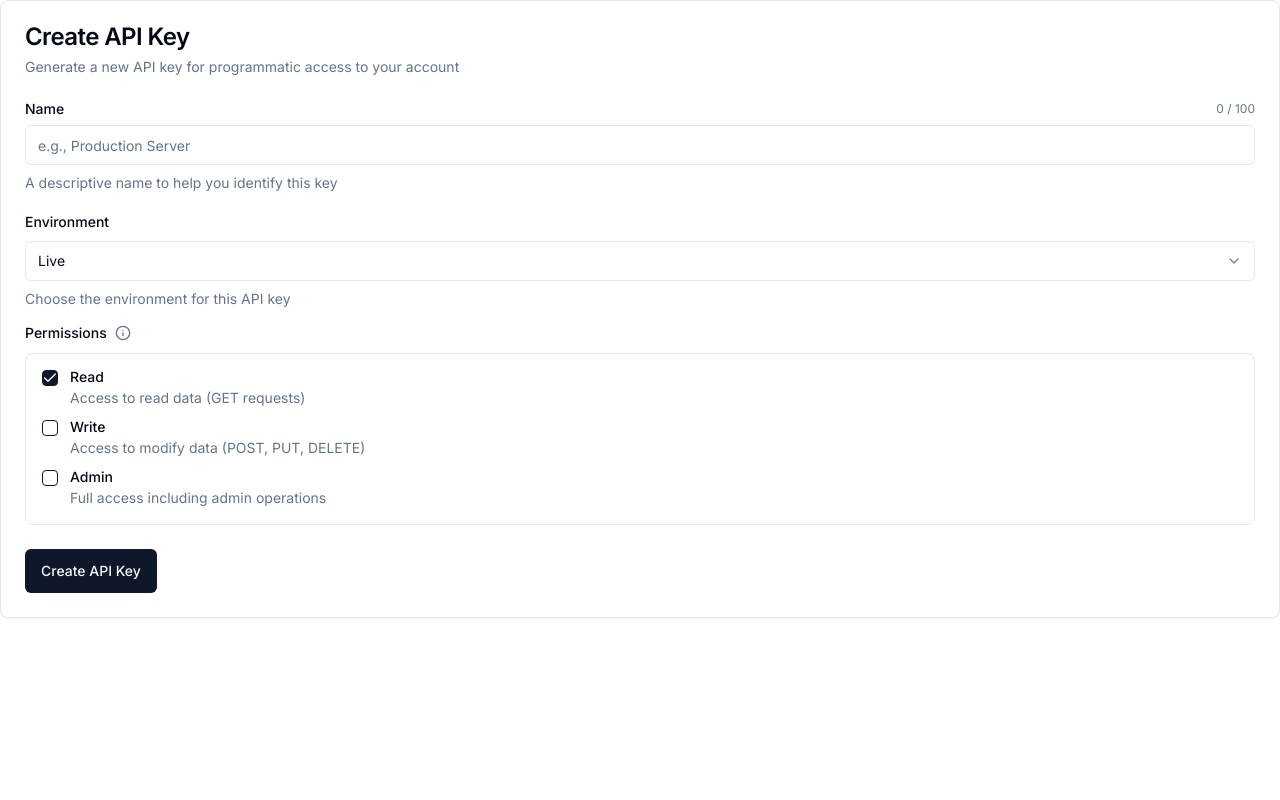
Test: ApiKeyCreateForm › shows loading state during submission
Type "Test" into the field labelled "Name" at (640, 145), box top-left (25, 125), bottom-right (1255, 165)
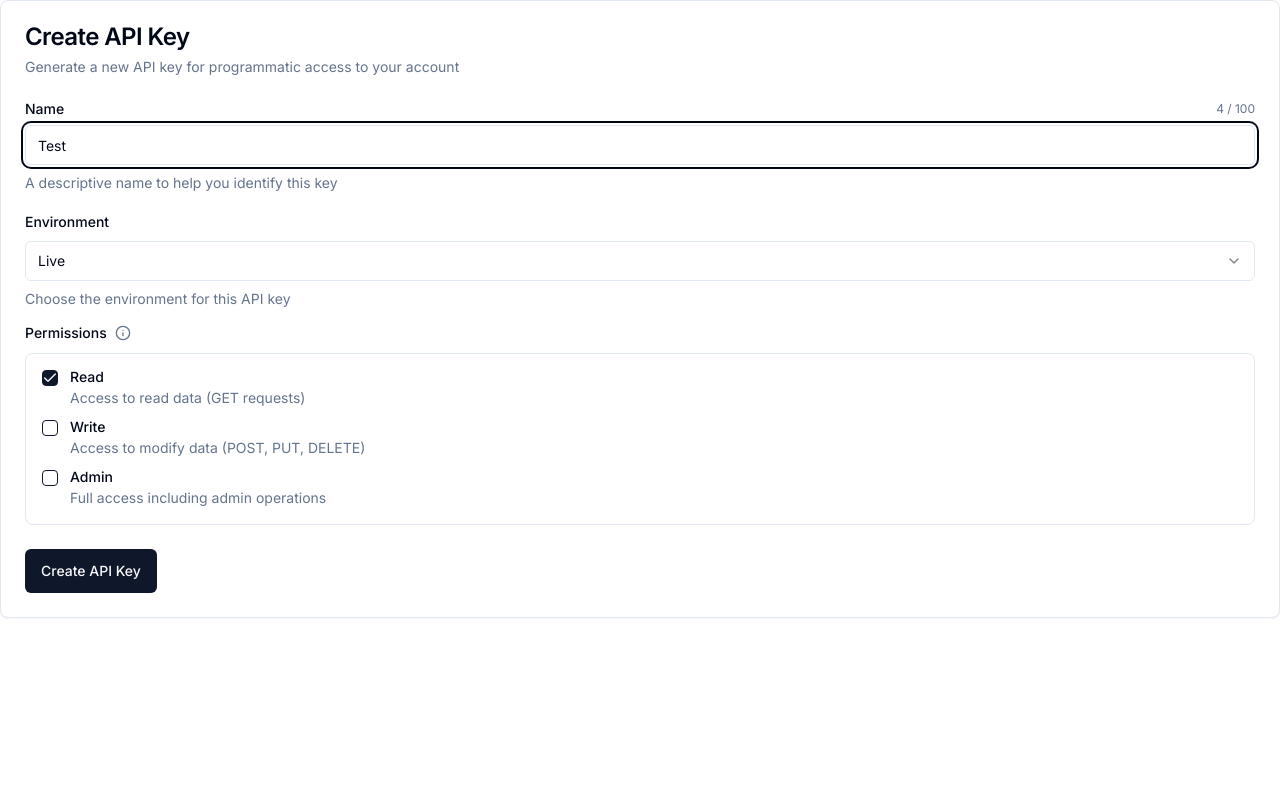
Click the button "Create API Key" at (91, 571), box top-left (25, 549), bottom-right (157, 593)
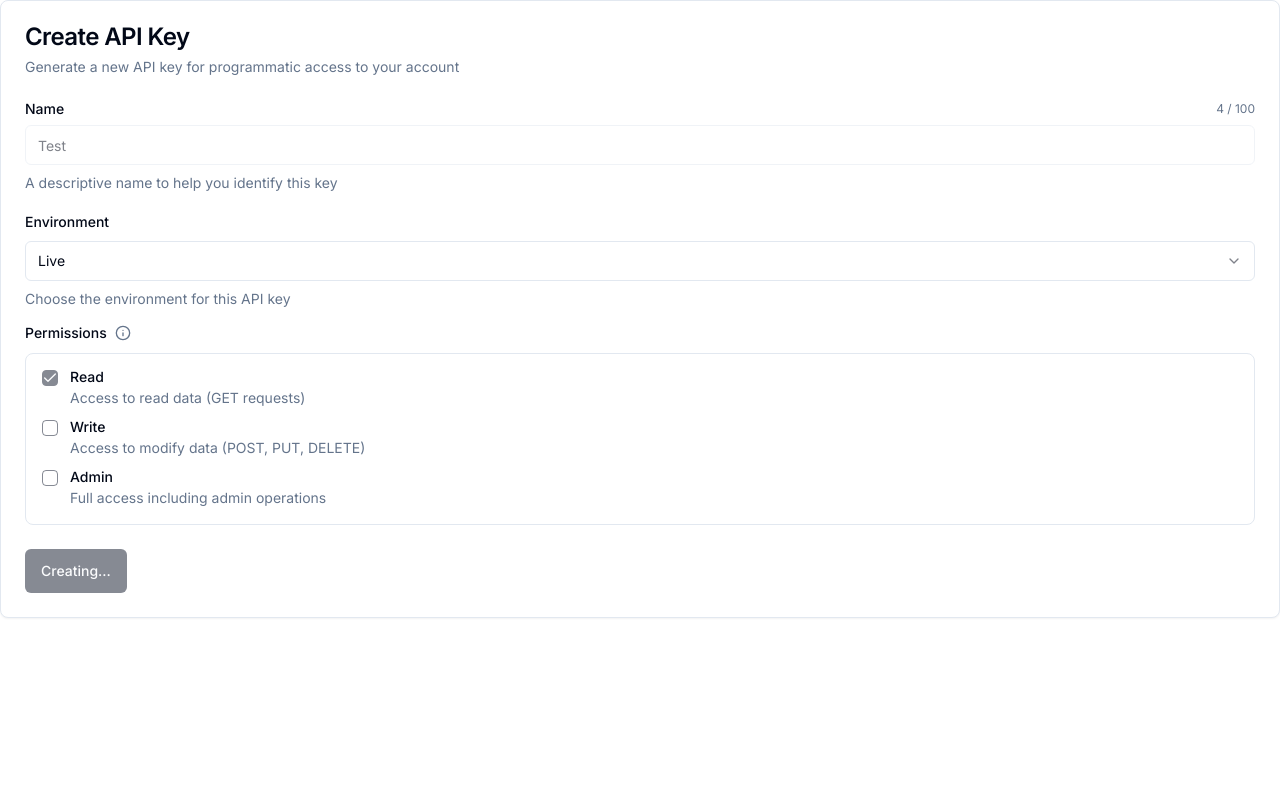
expect the button shows "Creating": met, box top-left (25, 549), bottom-right (127, 593)
expect the button is disabled: met, box top-left (25, 549), bottom-right (127, 593)
